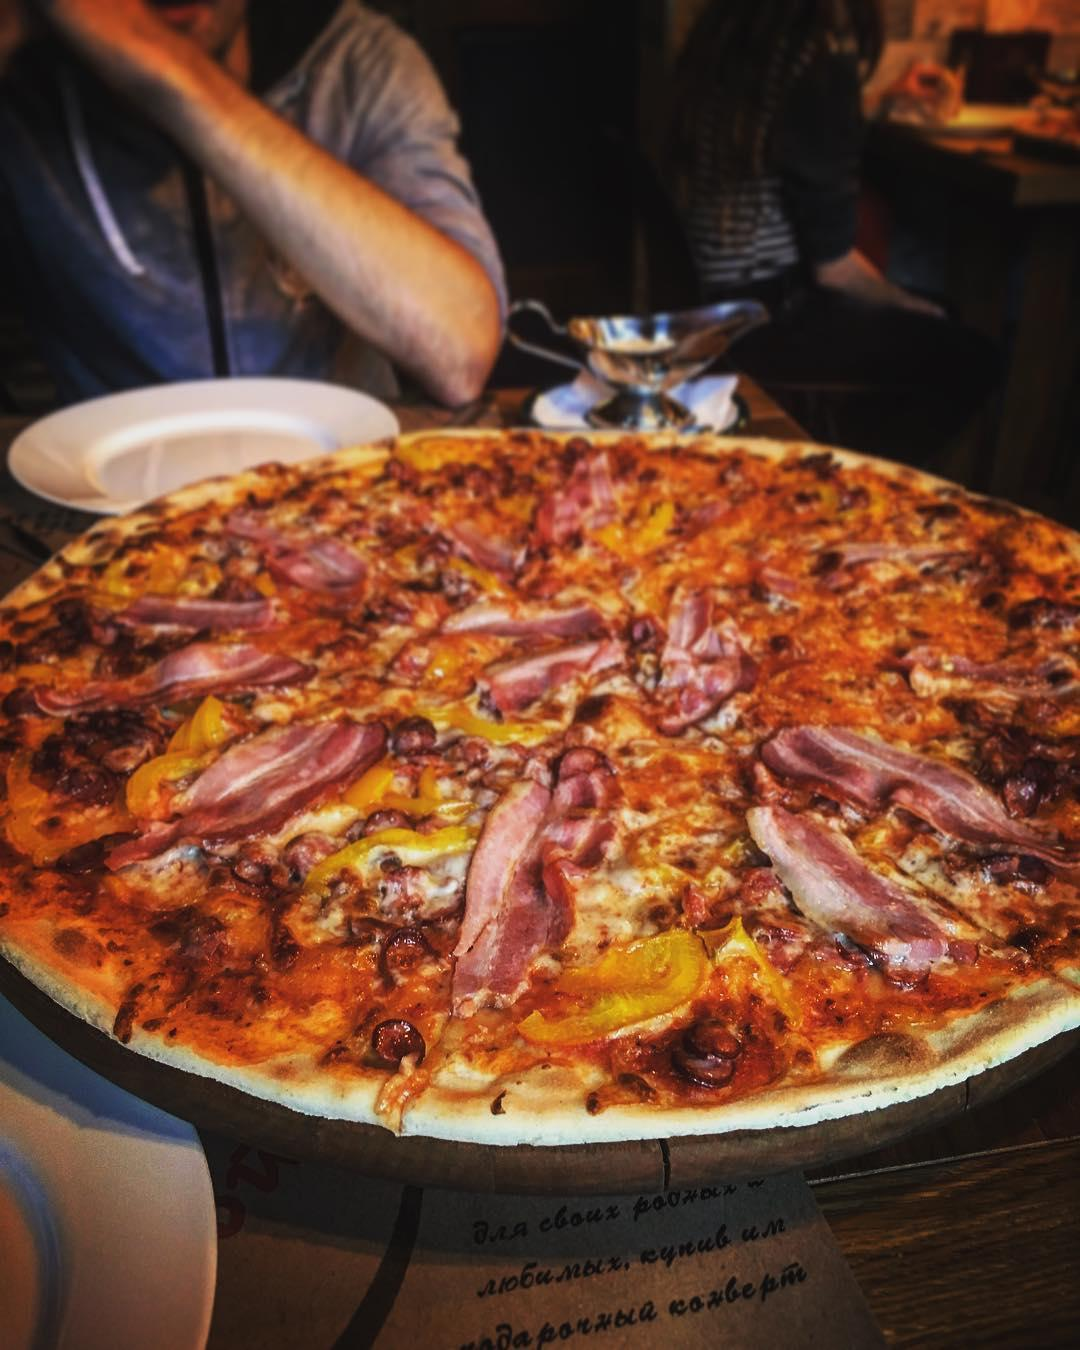Bacon: (444, 761, 598, 975), (744, 811, 934, 964), (161, 707, 366, 834), (761, 724, 1016, 826), (434, 607, 640, 703), (507, 464, 600, 591), (657, 591, 742, 722), (84, 571, 304, 621), (97, 647, 336, 693)
Pizza: (1, 421, 1080, 1119)
